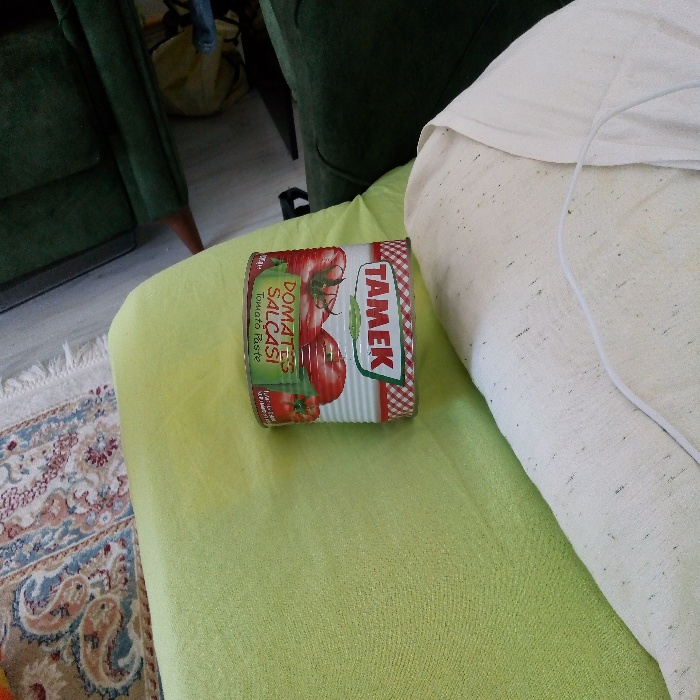salca: (237, 221, 428, 432)
